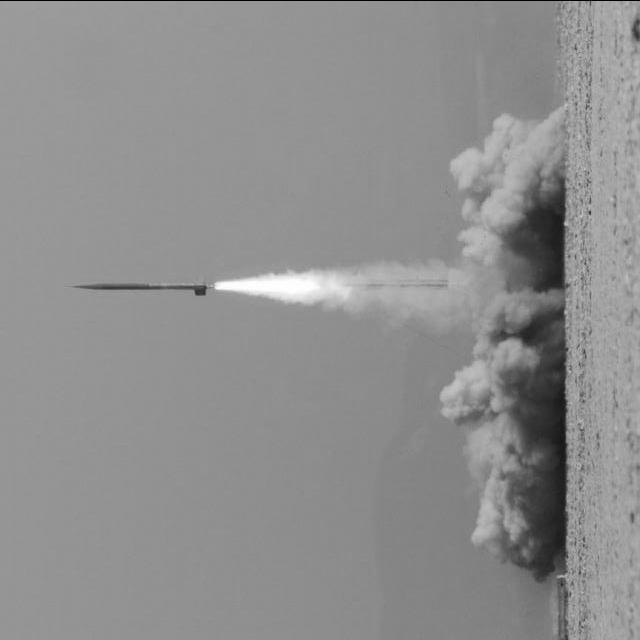missile: (71, 281, 214, 294)
